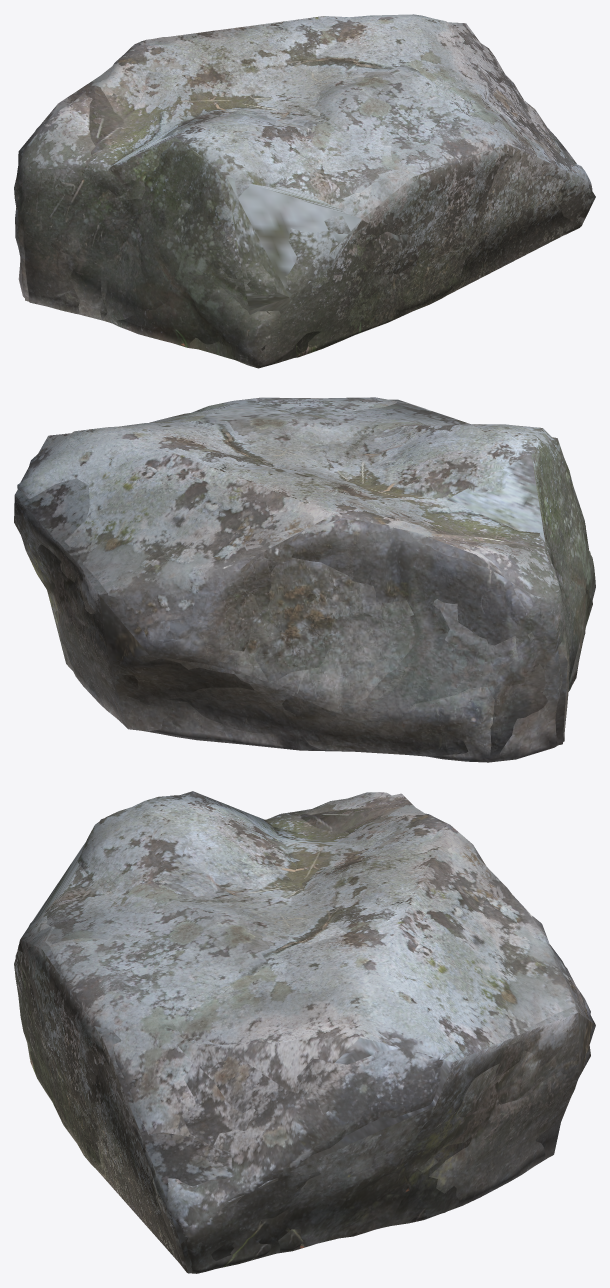
The model's file is stone_03.glb.
3 views of the same model, one above another, from view 1: azimuth 30°, elevation 25°; view 2: azimuth 150°, elevation 25°; view 3: azimuth 270°, elevation 25° (orthographic). The views are drawn at different scales.
Parts seen in each view (by area): view 1: Rock.002, Pebble.002; view 2: Rock.002, Pebble.002; view 3: Rock.002, Pebble.002.
Part boxes in pixels (left/top/right/bottom): Rock.002: left=14, top=14, right=592, bottom=368; Pebble.002: left=18, top=16, right=595, bottom=365; Rock.002: left=16, top=397, right=595, bottom=762; Pebble.002: left=14, top=399, right=592, bottom=758; Rock.002: left=14, top=792, right=590, bottom=1273; Pebble.002: left=14, top=791, right=595, bottom=1273.
Size of the model in its own units: 2.01 by 0.7226 by 1.58.
1 material, 1 textured.
